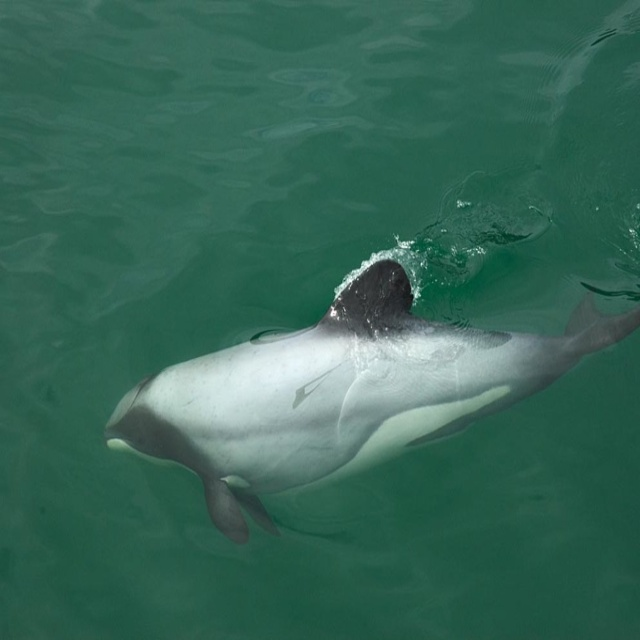Fish: (102, 258, 640, 544)
